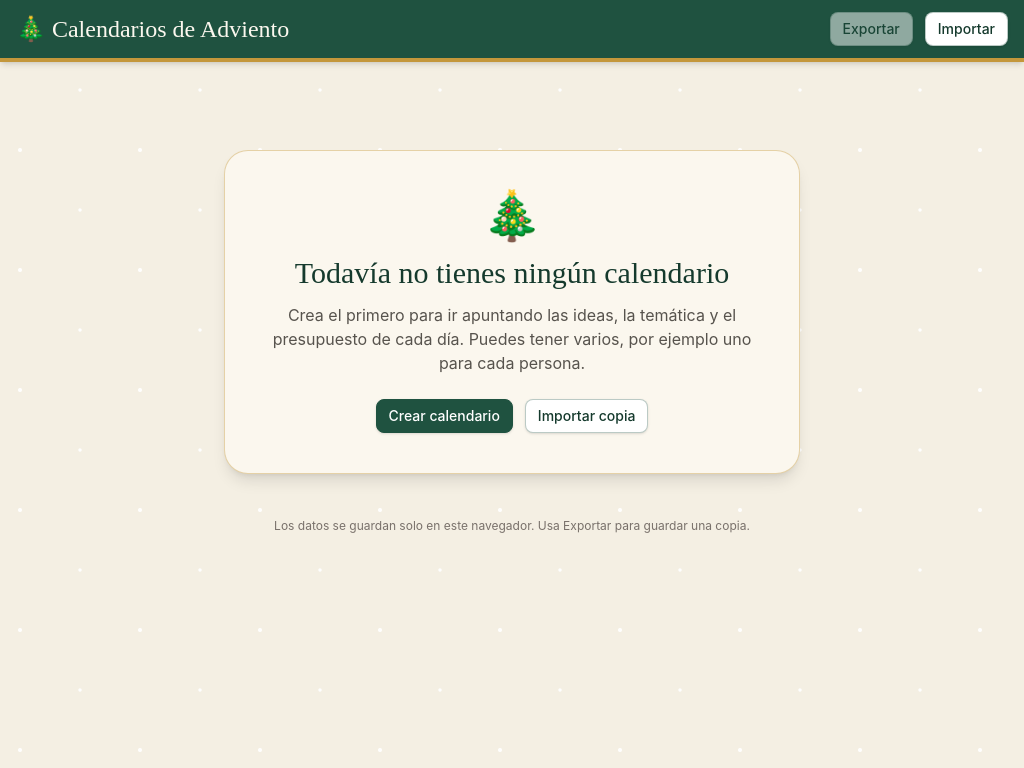
App › intercambia dos días completos desde el editor
Click the button "Crear calendario" at (444, 416), box [376,399,513,433]
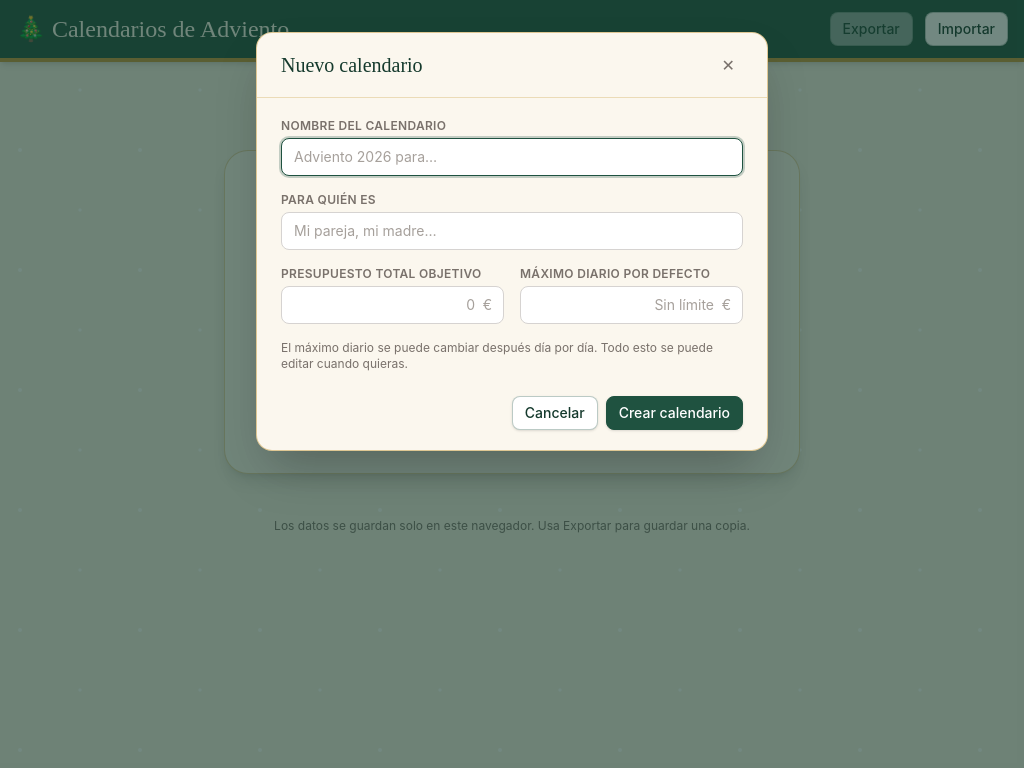
Type "Para mi pareja" into the field labelled "Nombre del calendario" at (512, 157), box [281,138,743,176]
Type "200" into the field labelled "Presupuesto total objetivo" at (392, 305), box [281,286,504,324]
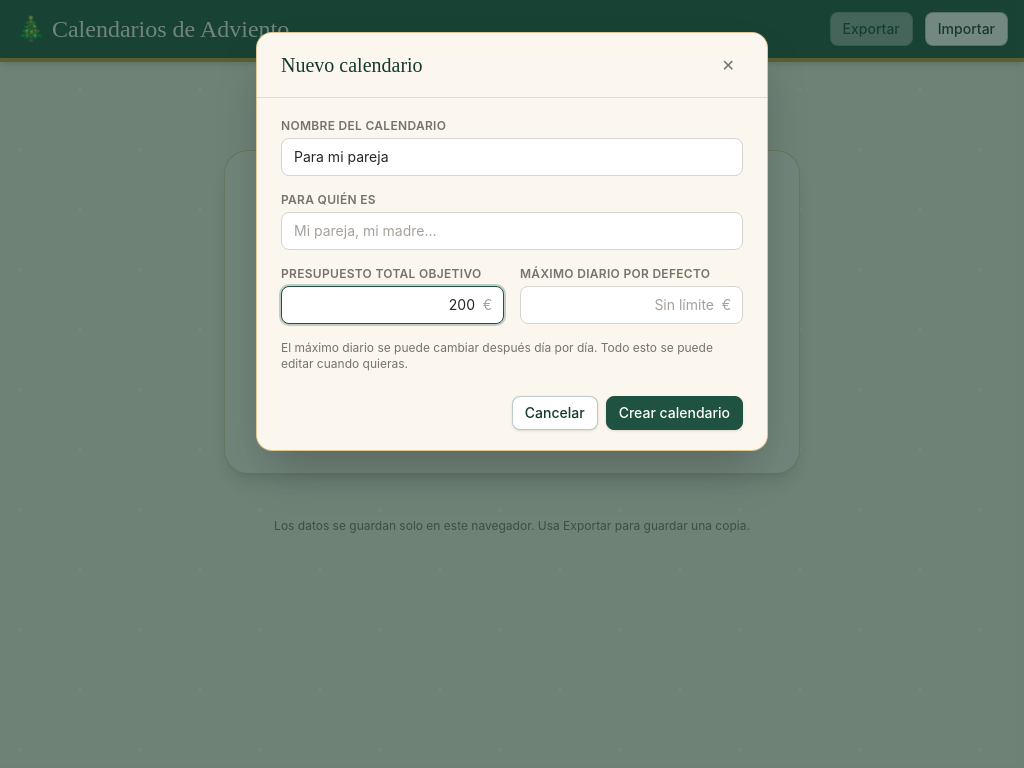
Click the button "Crear calendario" at (674, 413), box [606,396,743,430]
(page scrolled)
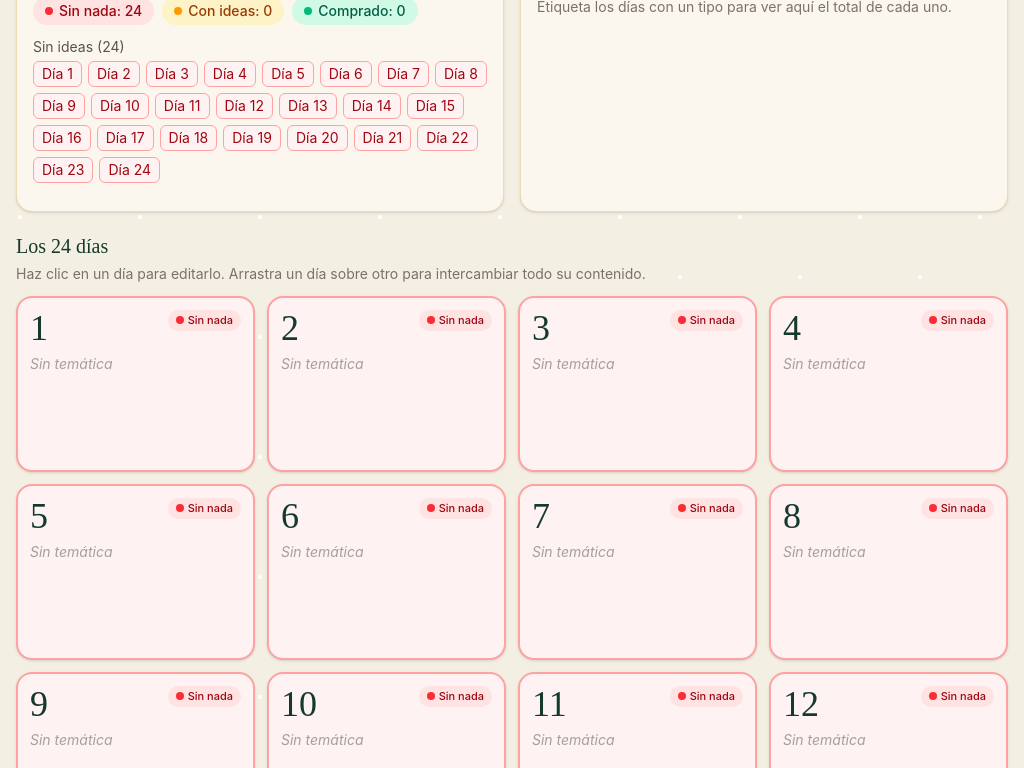
Click the button with aria-label "Día 1, Sin nada" at (136, 384), box [16,296,255,472]
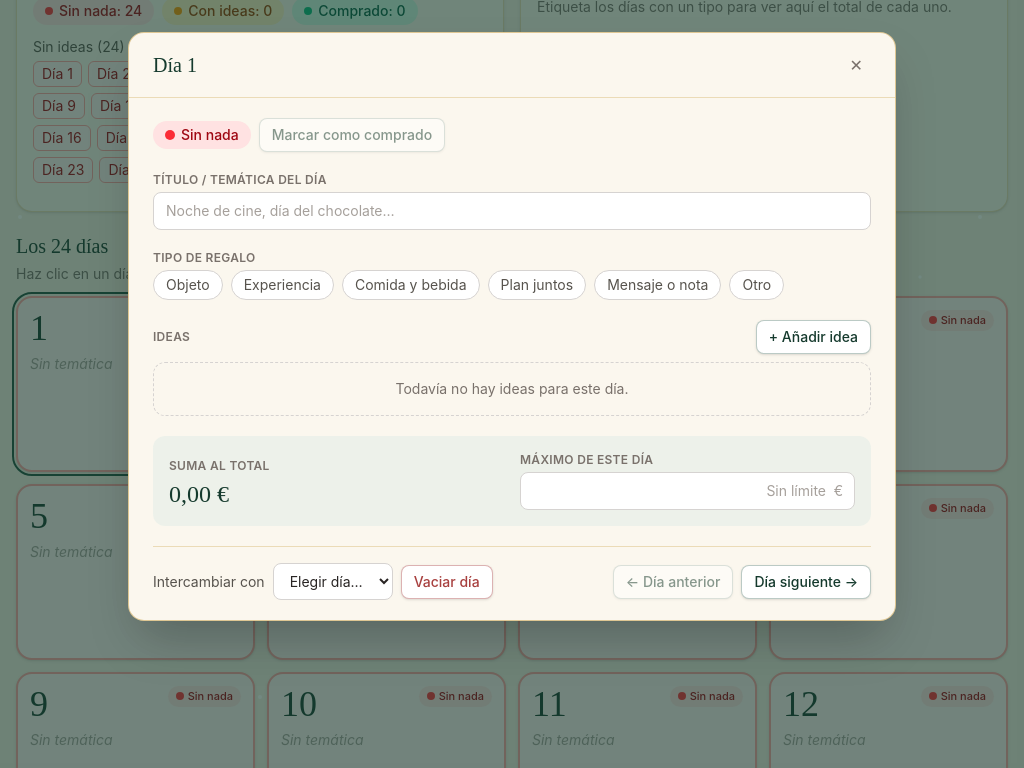
Type "Chocolate" into the field labelled "Título / temática del día" at (512, 211), box [153,192,871,230]
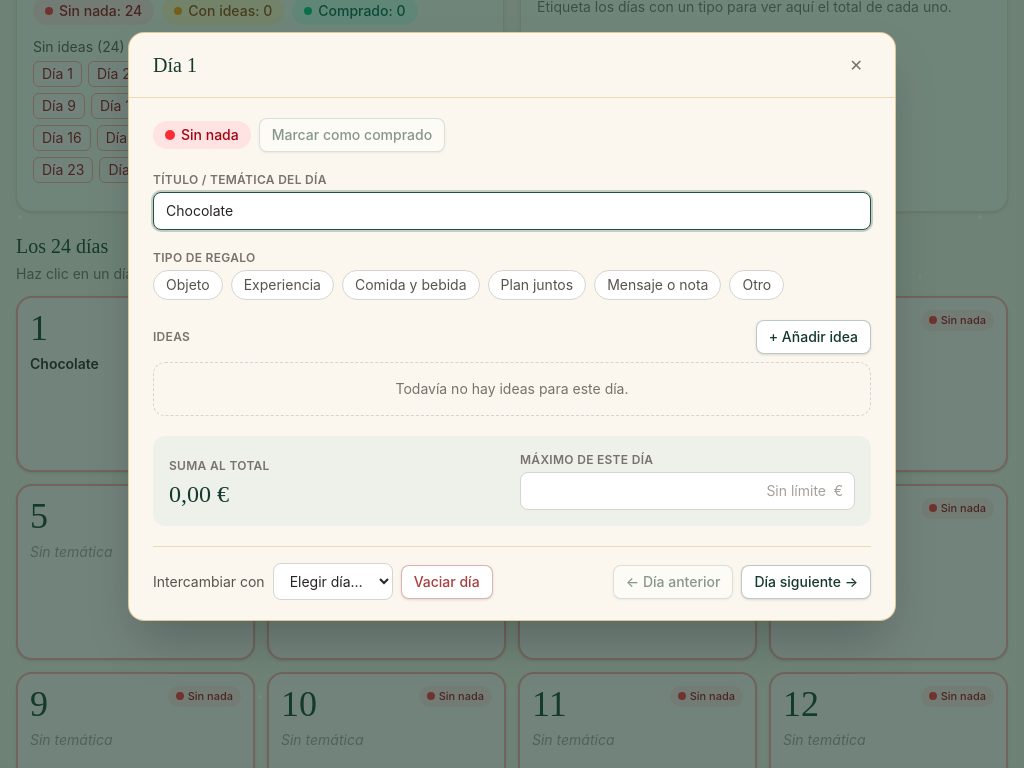
Select "Día 3" in the dropdown labelled "Intercambiar con" at (333, 582), box [273,563,393,600]
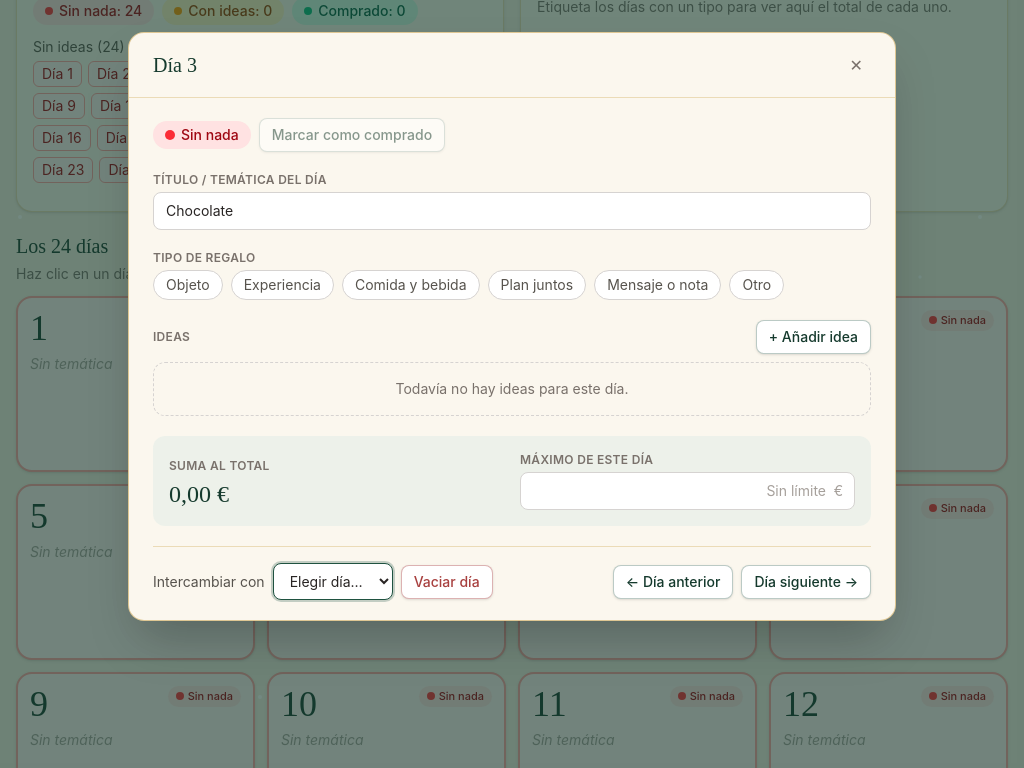
Check: the heading "Día 3" is shown, box [153,51,197,79]
